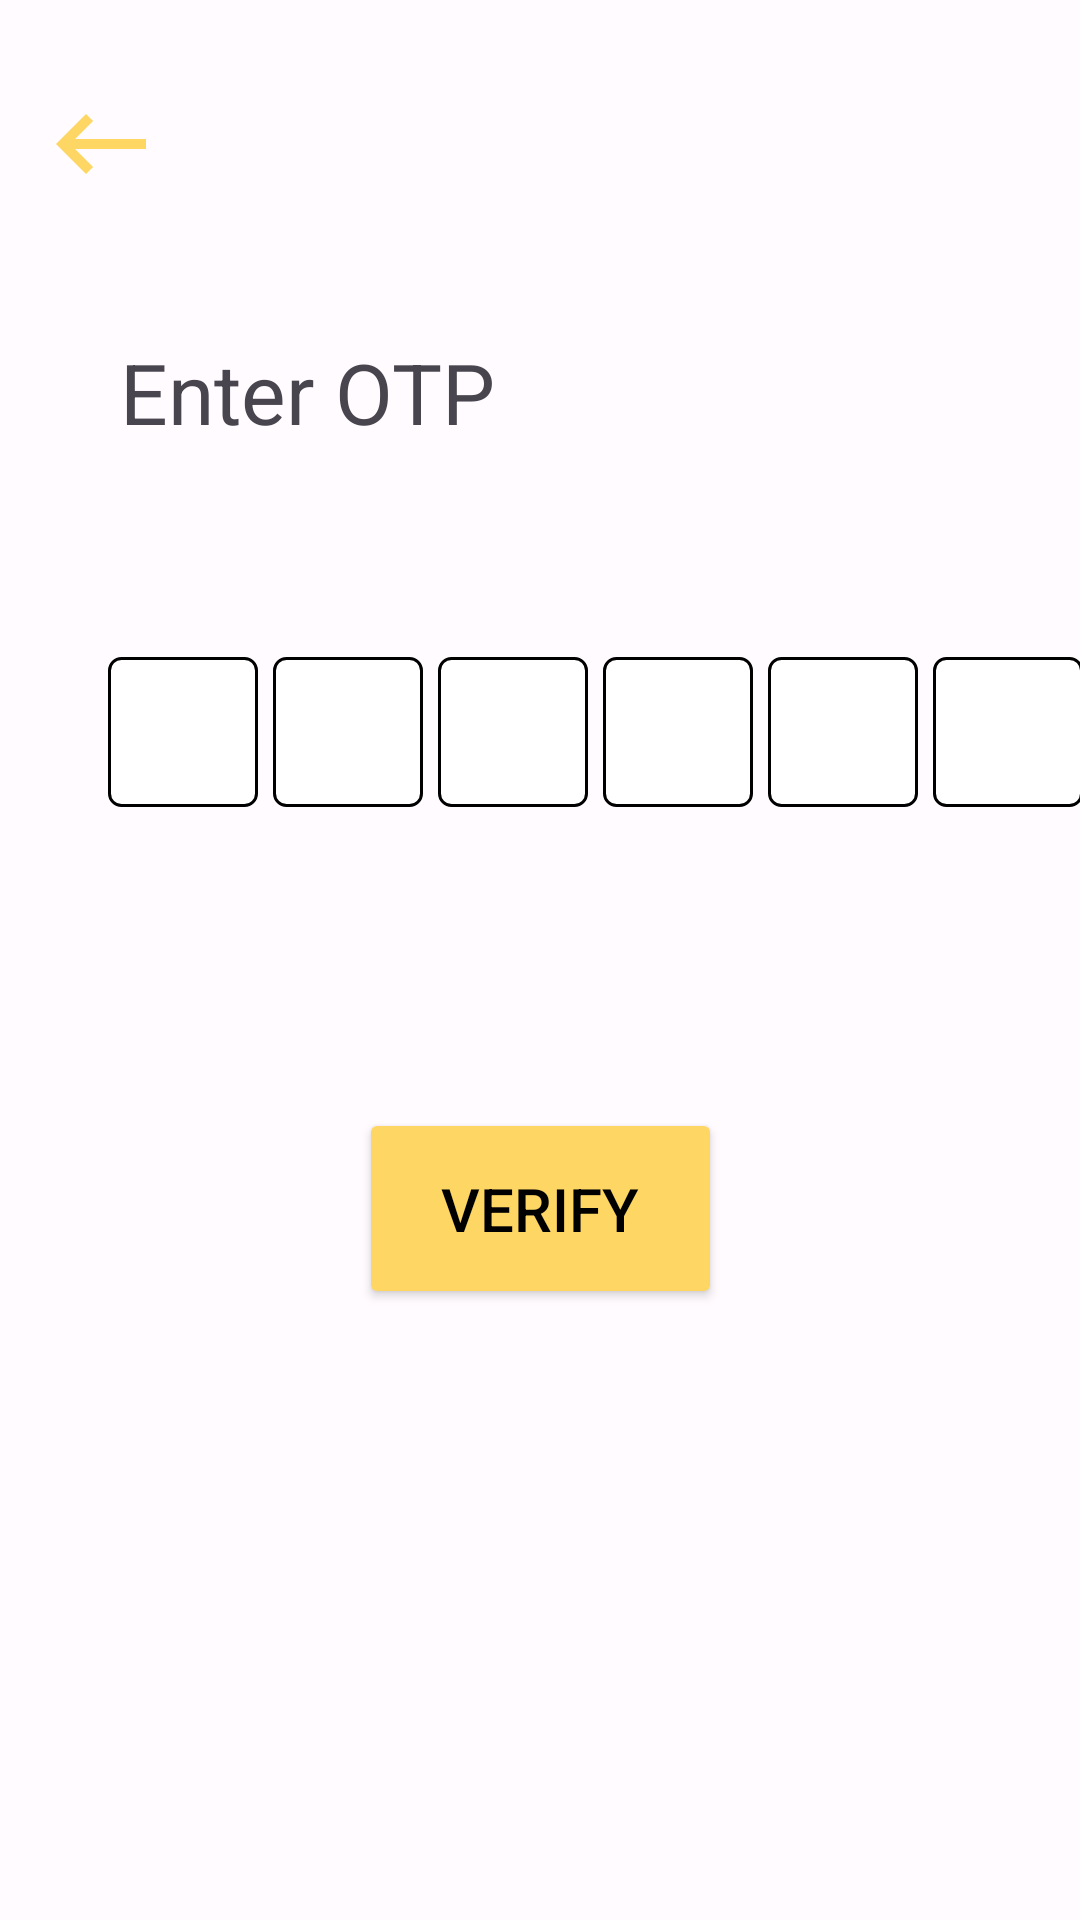

Screen size 1080×1920. Icon name, then its center in pixels as point (x, y):
keyboard backspace: point (101, 144)
